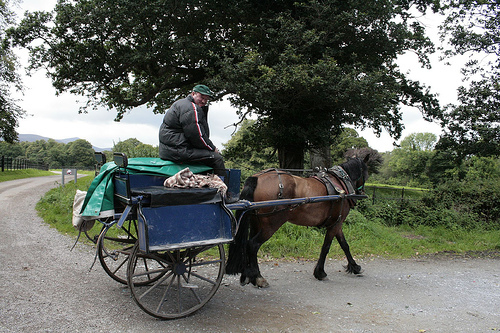horse: (226, 153, 372, 288)
